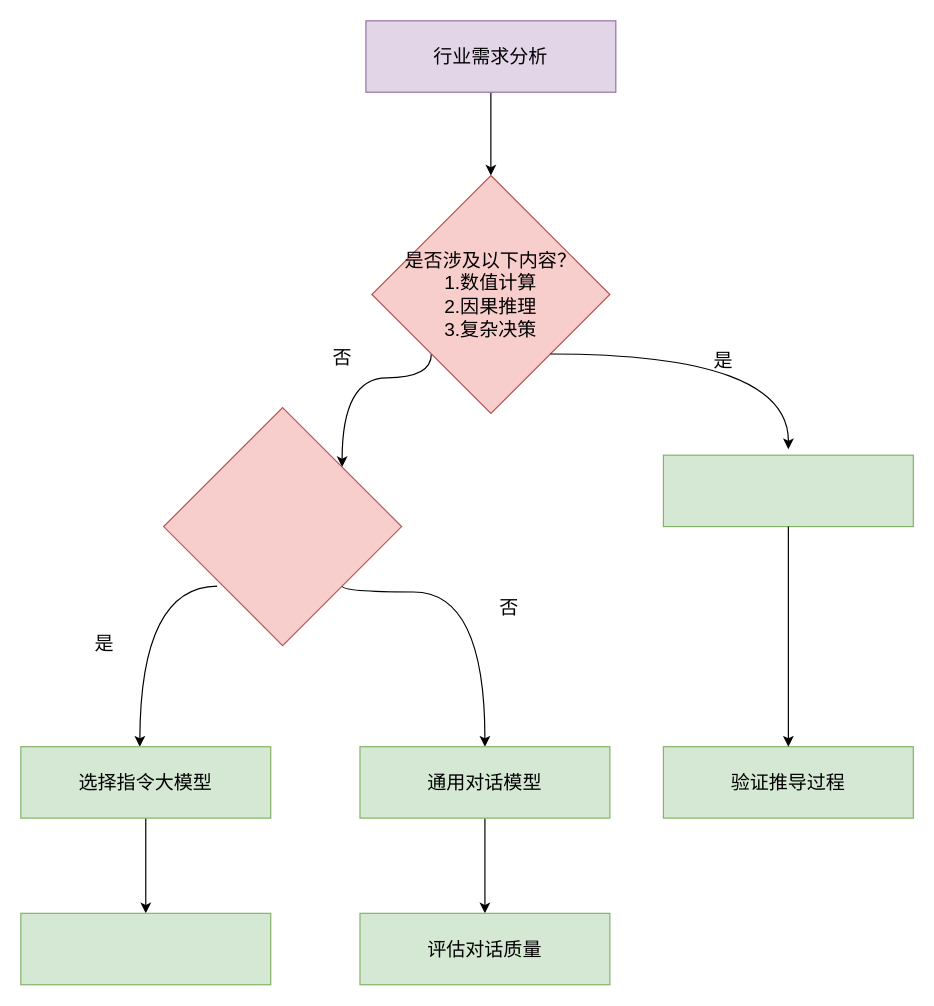
Image size: 934x1006. Some labels were removed from this diagram. The shapes that lost their labels are listed below. From the top down, each one's centre as x and y in pixels, then its label:
At [787,490]: "选择推理大模型".
At [282,526]: "是否需要： -生成结构化输出 -执行明确指令".
At [145,948]: "验证输出格式".
